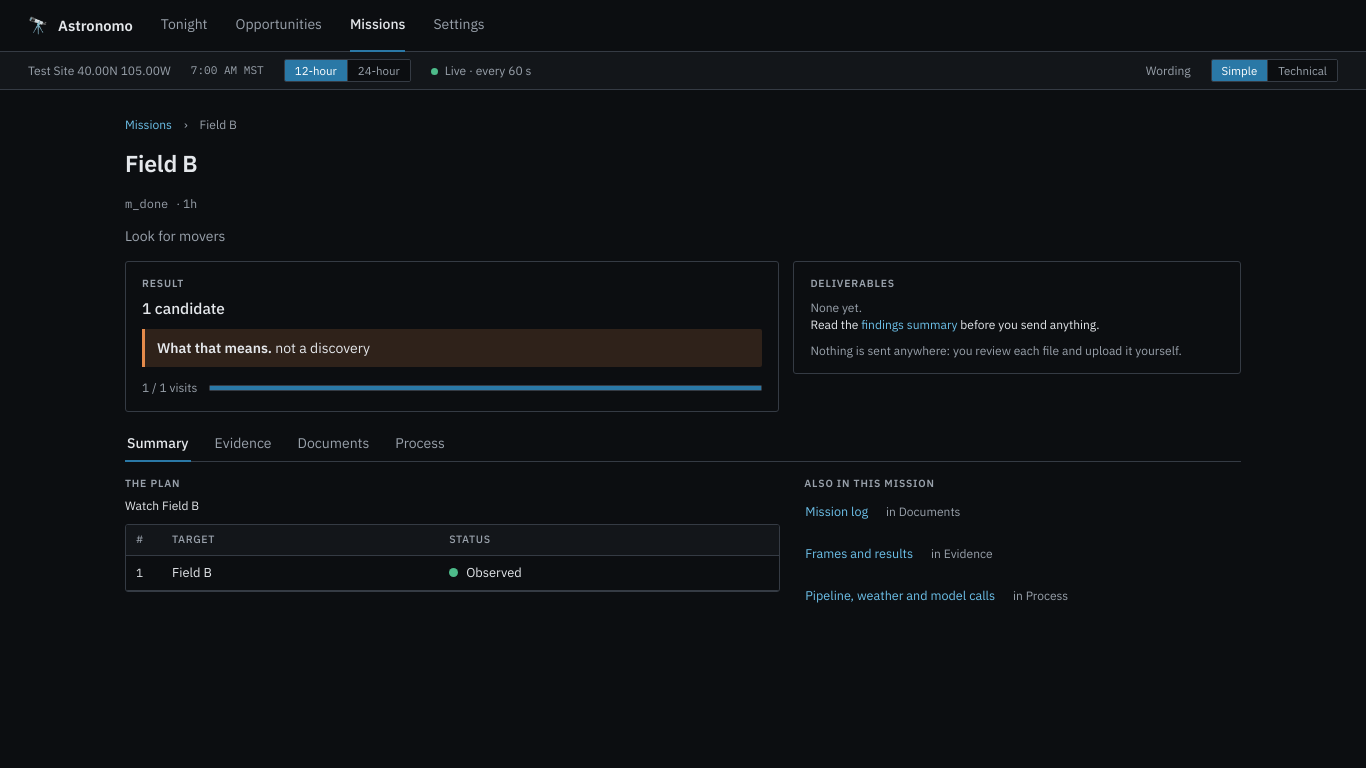
it: Documents shows the findings summary with its caveats and checks
Expected: the heading "Field B" is shown, [125,148,197,178]
Click the button "Documents".
click(333, 444)  # box [296,426,371,462]
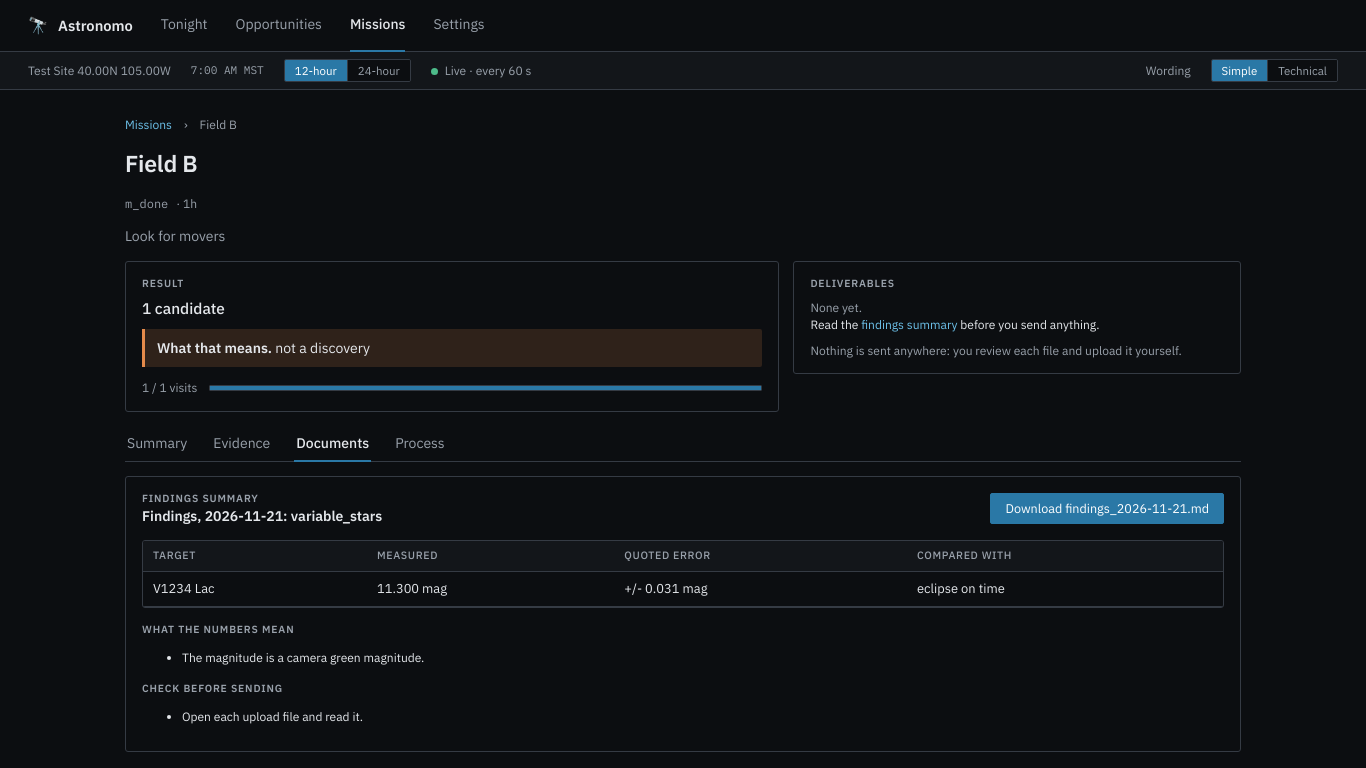
Expected: the text "Findings summary" is shown, [142,491,259,505]
Expected: the text "+/- 0.031 mag" is shown, [614,571,907,607]
Expected: the list item "The magnitude is a camera green magnitude." is shown, [182,650,424,665]
